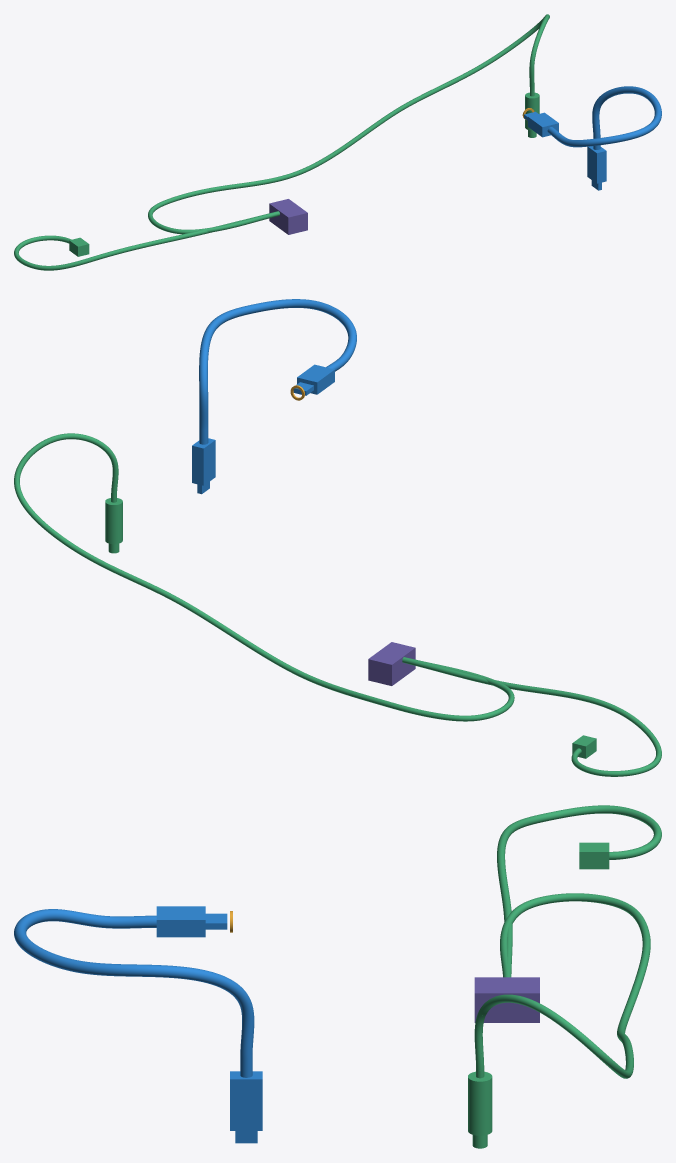
The model's file is wiring_layout.glb.
The picture shows the model from 3 angles, top to bottom: view 1: azimuth 30°, elevation 25°; view 2: azimuth 150°, elevation 25°; view 3: azimuth 270°, elevation 25°; orthographic projection. The views are drawn at different scales.
Parts seen in each view (by area): view 1: wiring_layout (×3); view 2: wiring_layout (×3); view 3: wiring_layout (×3).
Part boxes in pixels (x1,y1,x2,y2): wiring_layout (×3): [14, 14, 661, 270]; wiring_layout (×3): [14, 299, 661, 776]; wiring_layout (×3): [14, 805, 661, 1148].
Size of the model in its own units: 0.3773 by 0.1048 by 0.2385.
